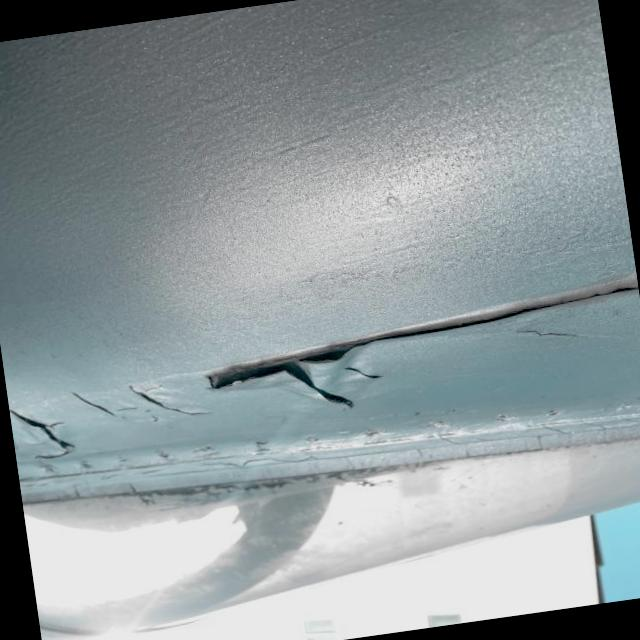crack: (72, 368, 211, 438), (512, 320, 586, 352), (340, 360, 390, 390)
